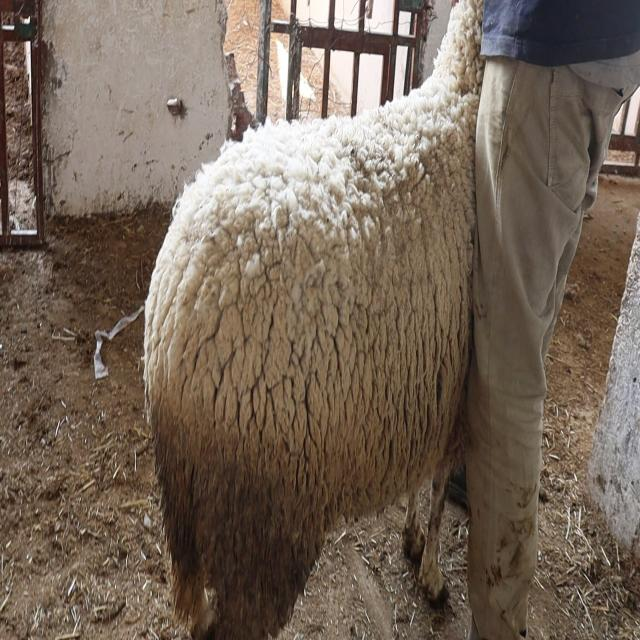Score_5: (143, 0, 483, 639)
